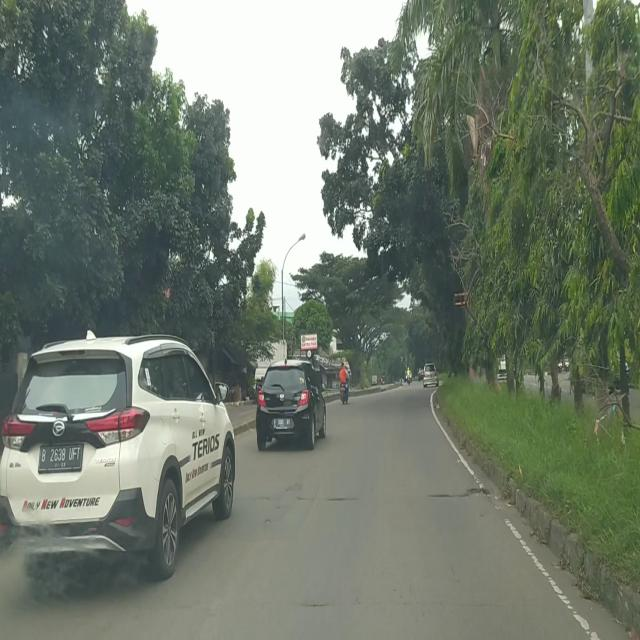Sewer Cover: (298, 487, 484, 505)
